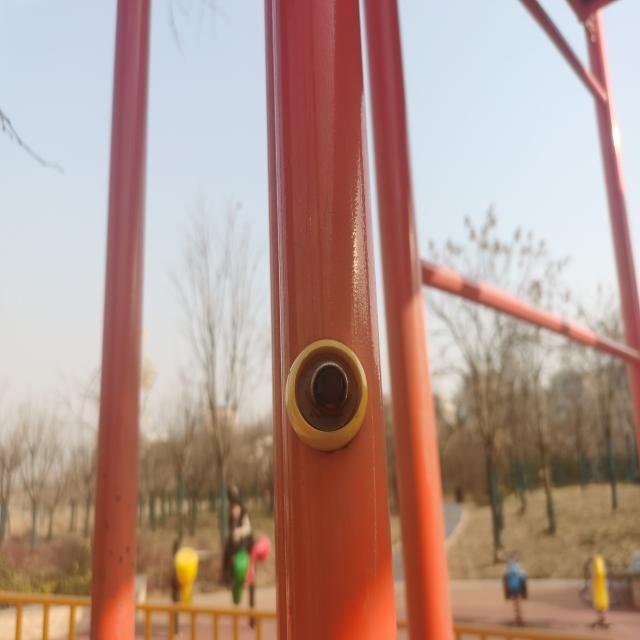bolt nut: (304, 359, 352, 420)
